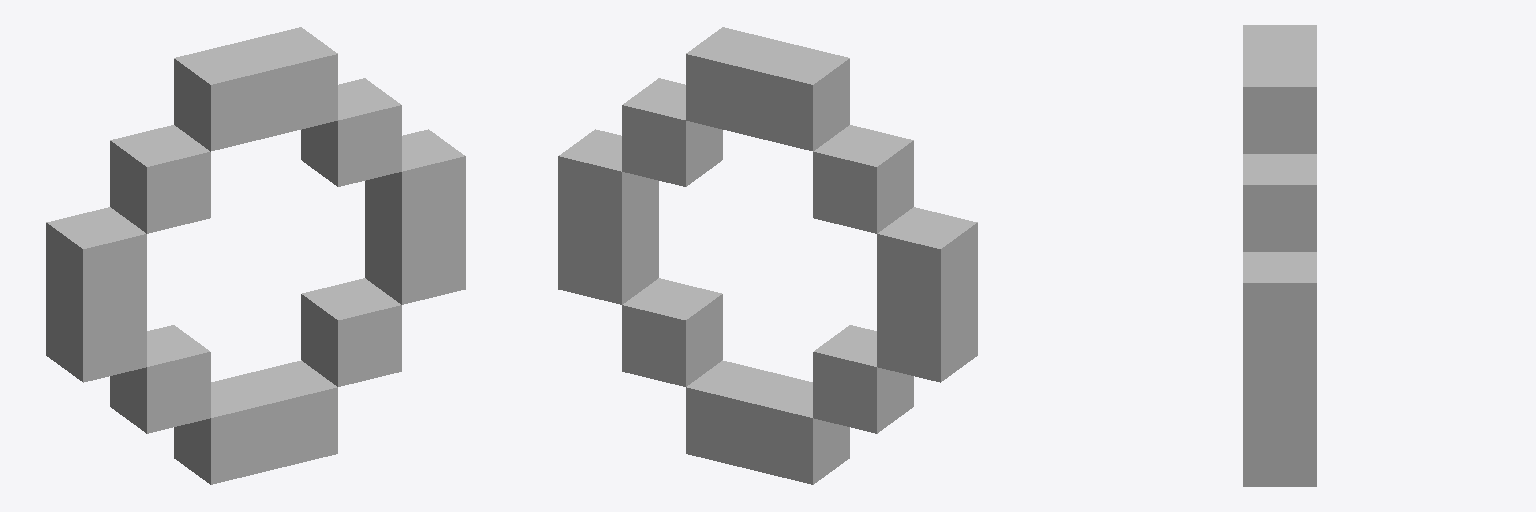
Rendered from luzRoxa.obj.
3 views of the same model, side by side, from view 1: azimuth 30°, elevation 25°; view 2: azimuth 150°, elevation 25°; view 3: azimuth 270°, elevation 25° (orthographic).
Parts seen in each view (by area): view 1: ObjObject; view 2: ObjObject; view 3: ObjObject.
Boxes of the visible parts, <box> form: ObjObject: <box>46,27,465,484</box>; ObjObject: <box>558,27,977,484</box>; ObjObject: <box>1243,25,1316,486</box>.
Bounding box in the file's own units: 0.6 × 0.6 × 0.1.